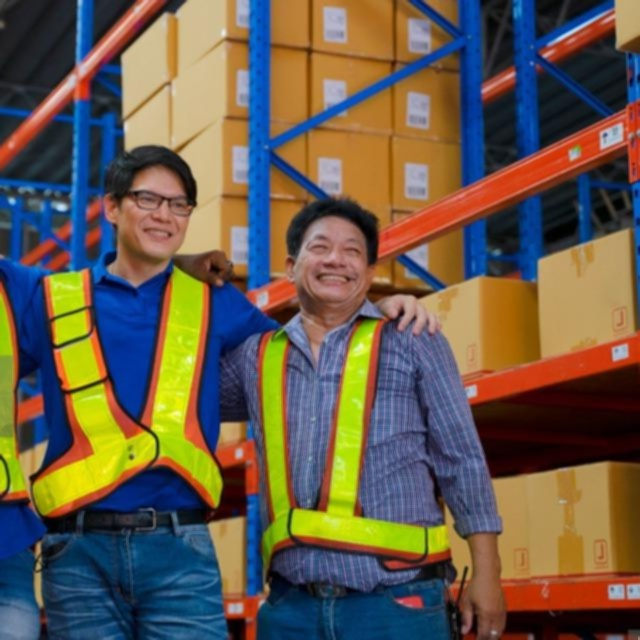Con_Chaleco: (30, 260, 227, 523), (252, 307, 441, 573)
Sin_Casco_Mascarrilla: (100, 145, 199, 258), (283, 198, 381, 310)
